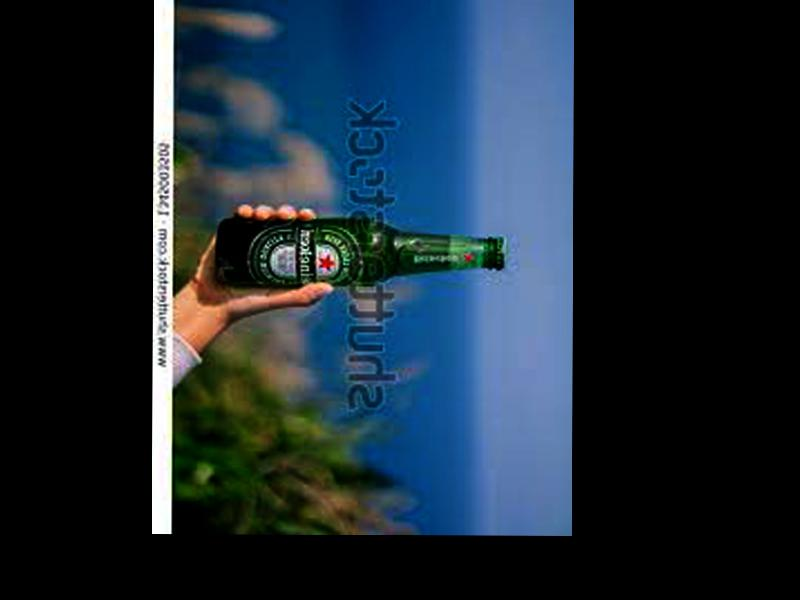Beer: (215, 218, 505, 288)
